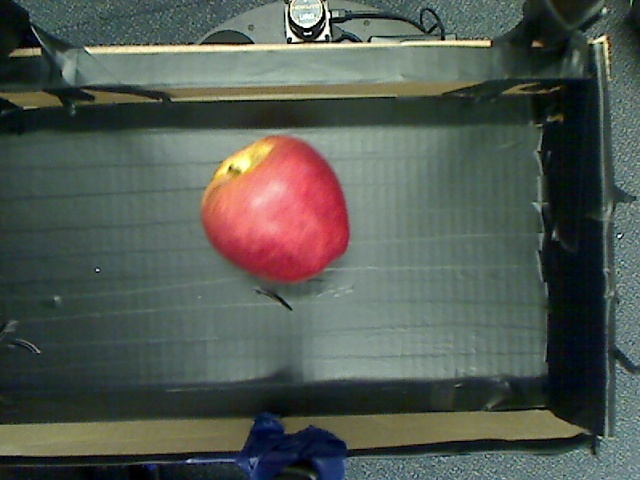apple: (177, 129, 370, 299)
